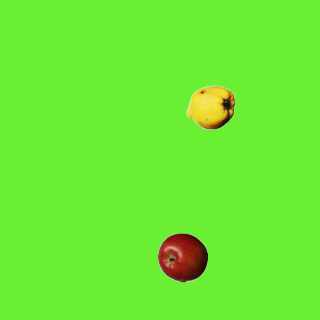Apple Braeburn: (157, 232, 207, 282)
Quince: (185, 82, 235, 132)
